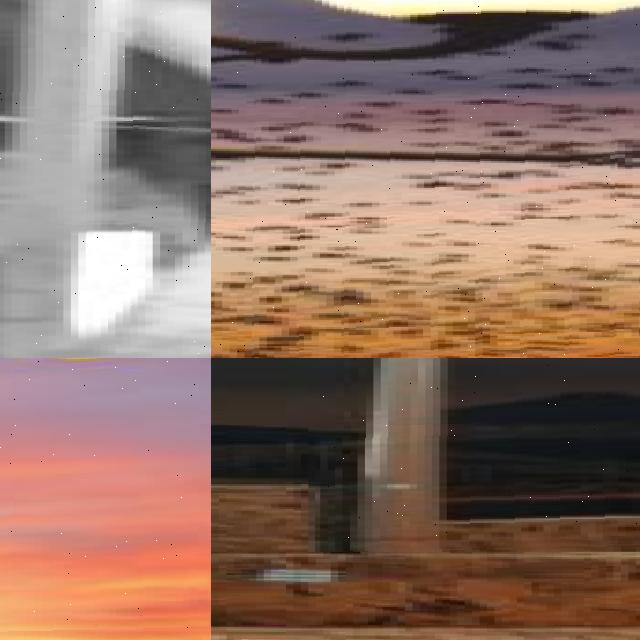street light: (211, 0, 640, 358), (0, 0, 211, 358), (315, 358, 640, 552), (0, 358, 211, 640), (0, 358, 135, 640)
